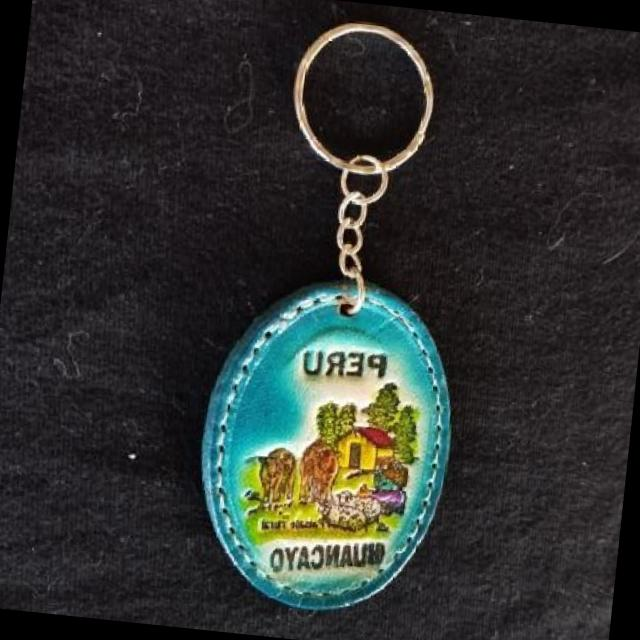Llavero: (184, 264, 467, 624)
